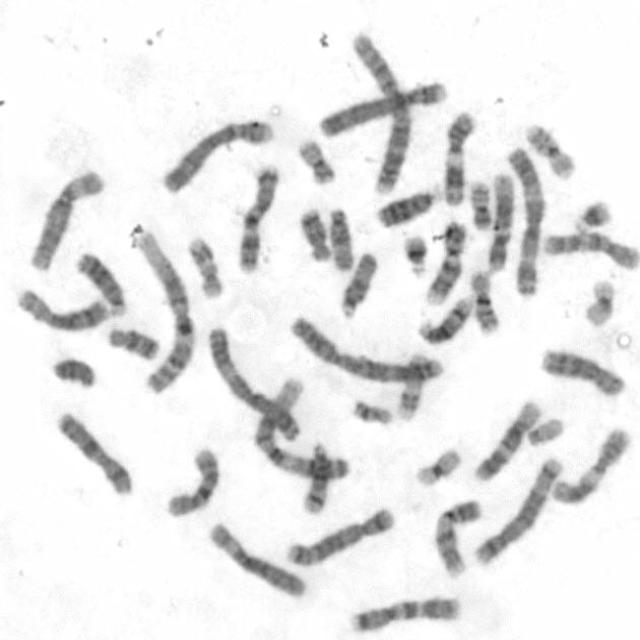A1: (247, 373, 353, 483), (132, 224, 198, 397)
A2: (285, 310, 446, 384), (346, 29, 414, 193)
A3: (202, 320, 303, 442), (503, 142, 546, 301)
B4: (158, 112, 276, 197), (314, 77, 450, 139)
B5: (471, 449, 566, 568), (282, 501, 398, 568)
C10: (162, 441, 224, 519), (537, 225, 639, 272)
C11: (546, 421, 633, 507), (438, 104, 477, 208)
C12: (470, 394, 544, 484), (484, 168, 516, 272)
C6: (204, 518, 310, 599), (26, 166, 107, 271)
C7: (232, 159, 284, 274), (346, 590, 464, 635)
C8: (535, 343, 628, 399), (13, 284, 112, 332)
C9: (430, 494, 484, 580), (420, 216, 470, 305)
D13: (71, 246, 128, 317), (373, 180, 442, 228)
D14: (414, 292, 476, 346), (297, 437, 332, 516)
D15: (335, 247, 381, 321), (324, 201, 357, 273)
E16: (521, 117, 578, 182), (467, 266, 503, 336)
E17: (390, 346, 430, 424), (183, 230, 225, 300)
E18: (102, 322, 162, 364), (295, 203, 333, 264)
F19: (411, 443, 464, 489), (579, 274, 618, 328)
F20: (293, 134, 338, 186), (465, 176, 495, 232)
G21: (568, 192, 617, 233), (398, 230, 432, 278)
G22: (522, 412, 567, 447), (349, 394, 395, 426)
X: (51, 407, 136, 497)
Y: (46, 352, 98, 390)
